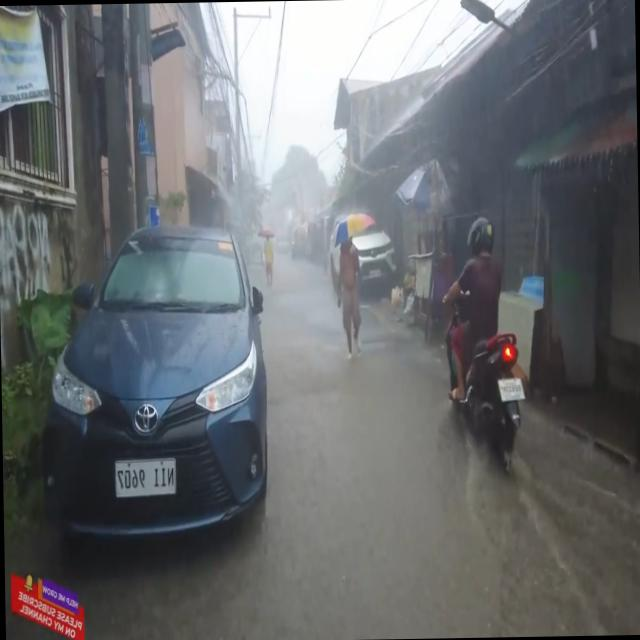full: (466, 215, 494, 261)
